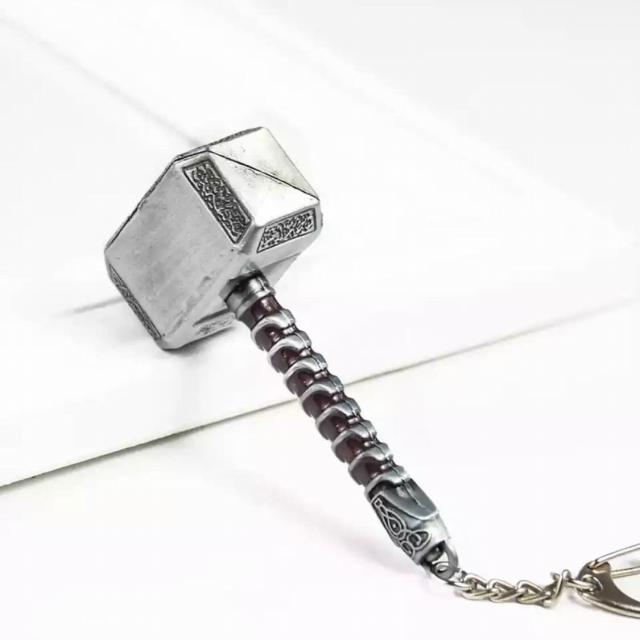hammer: (71, 116, 462, 584)
